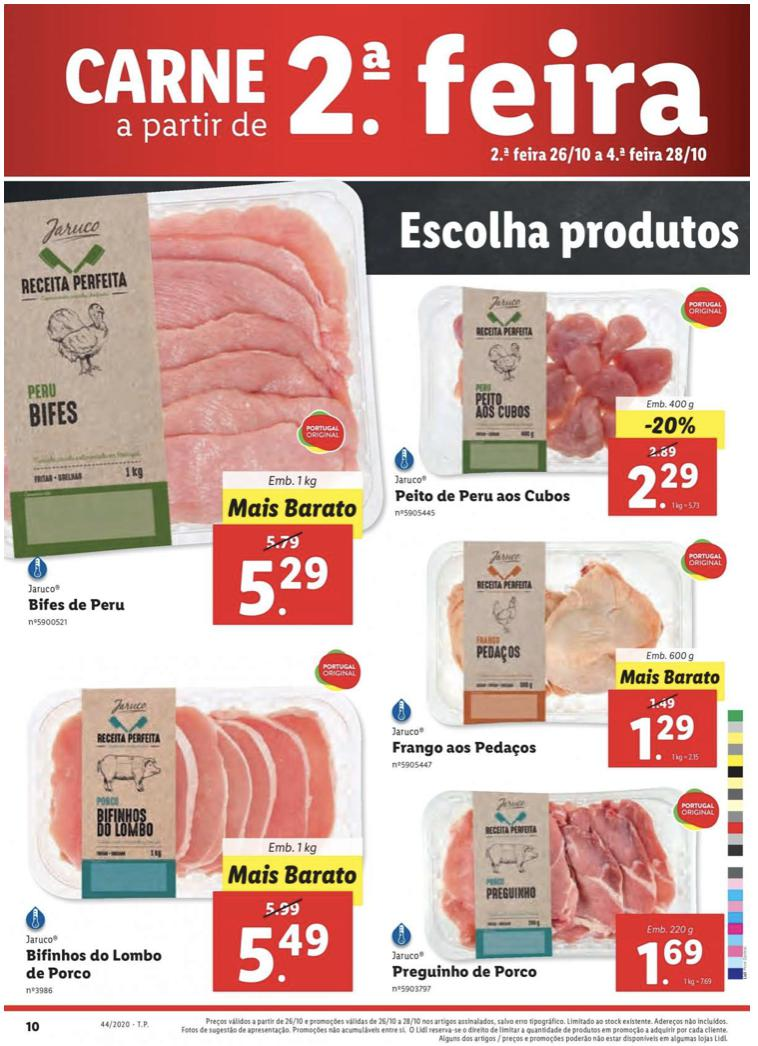name: (21, 946, 164, 983), (390, 485, 573, 507), (389, 737, 543, 759), (393, 963, 538, 985), (23, 592, 130, 616)
price: (236, 553, 332, 622), (236, 923, 333, 987), (625, 711, 699, 764), (624, 461, 703, 509), (634, 937, 705, 988)
product: (7, 177, 382, 653), (12, 664, 377, 1005), (385, 280, 741, 529), (385, 529, 721, 772), (388, 774, 724, 998)
promotion: (641, 414, 699, 437)
